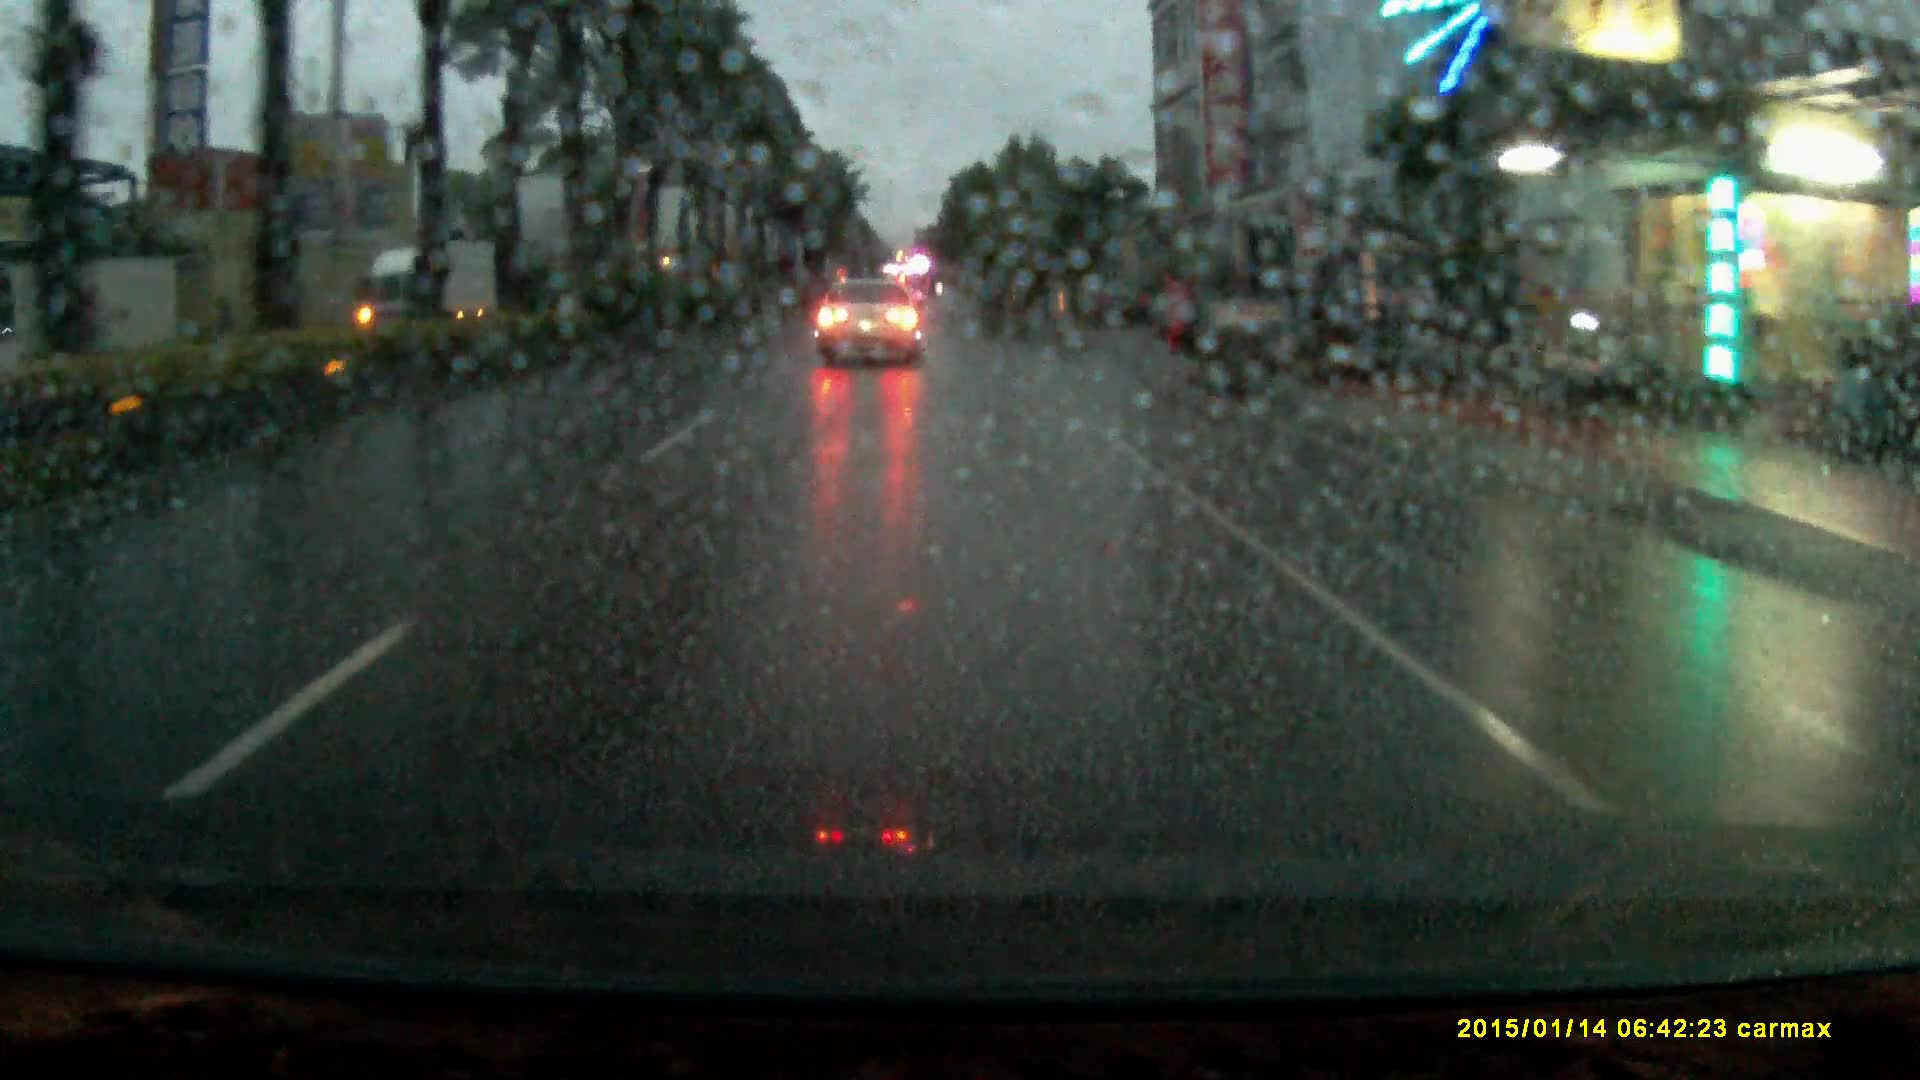vehicle: (355, 244, 496, 324), (816, 285, 920, 378), (1069, 286, 1150, 338)
